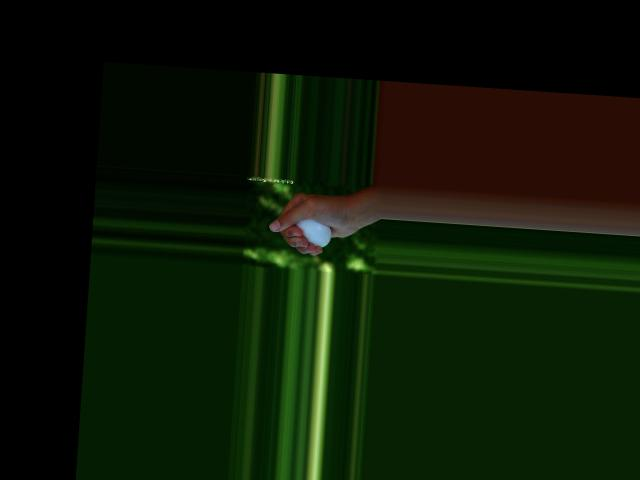egg: (293, 217, 331, 248)
